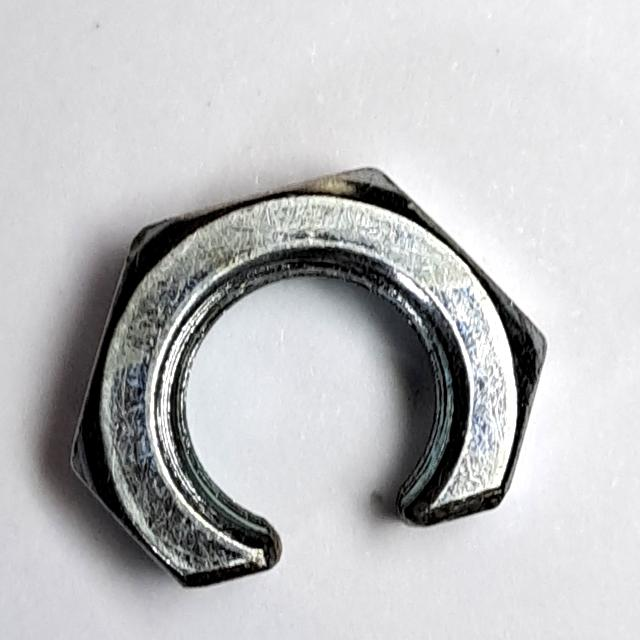Fracture: (53, 147, 553, 606)
